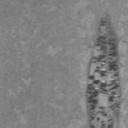oxide scale of plate system: (84, 12, 122, 128)
